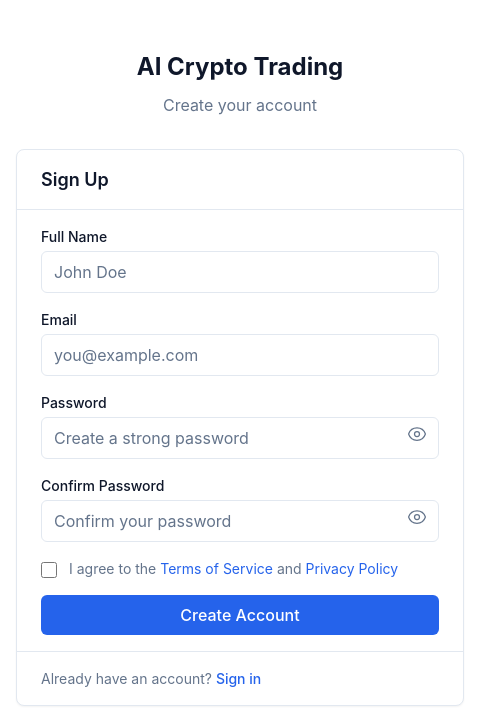
Test: Signup Page › Form Validation › should show error when terms are not accepted
Type "Test User" into the field labelled "Full Name" at coordinates (240, 272), box [41,250,439,292]
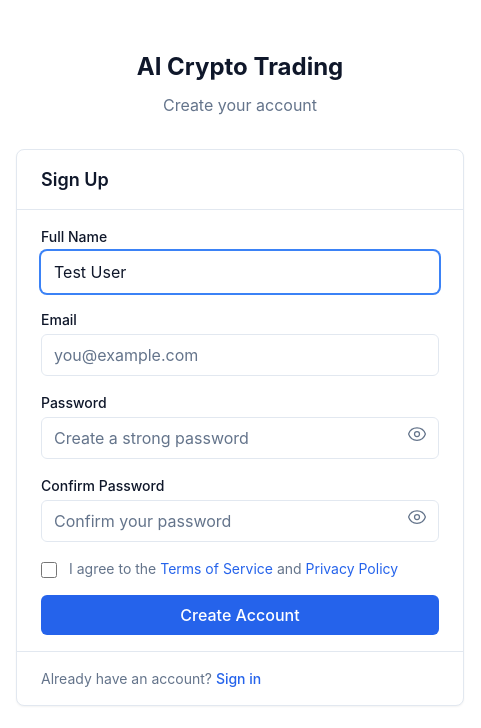
Type "test@example.com" into the field labelled "Email" at coordinates (240, 354), box [41,334,439,376]
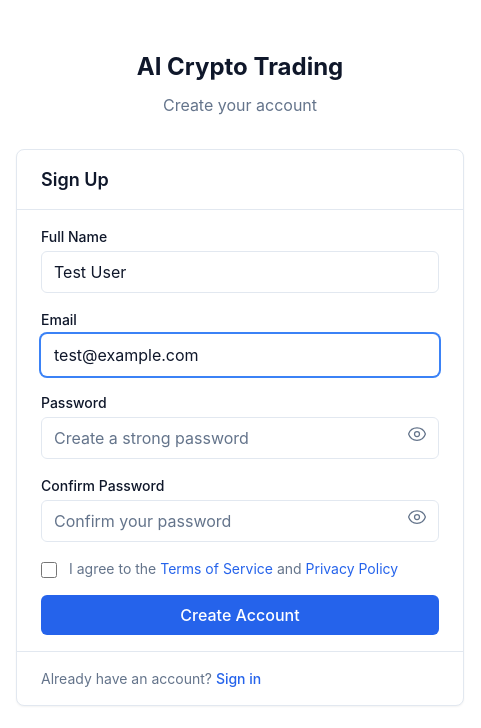
Type "StrongP@ss123!" into the password field labelled "Password" at coordinates (240, 438), box [41,416,439,458]
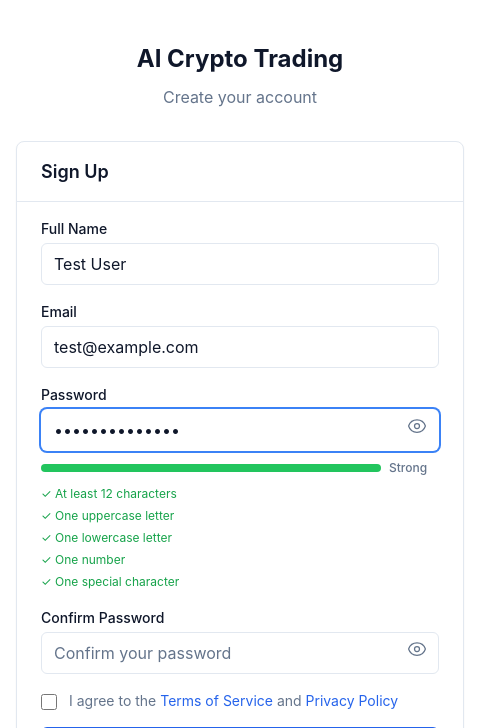
Type "StrongP@ss123!" into the password field with id "confirmPassword" at coordinates (240, 653), box [41,632,439,674]
(page scrolled)
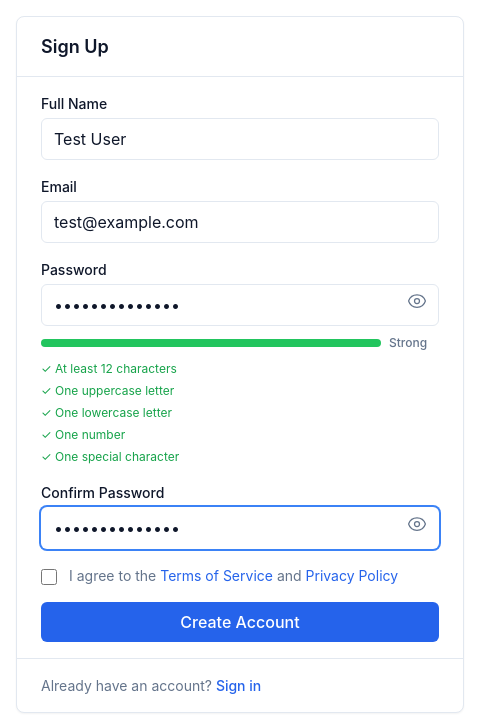
Click the button "Create Account" at coordinates (240, 622), box [41,602,439,642]
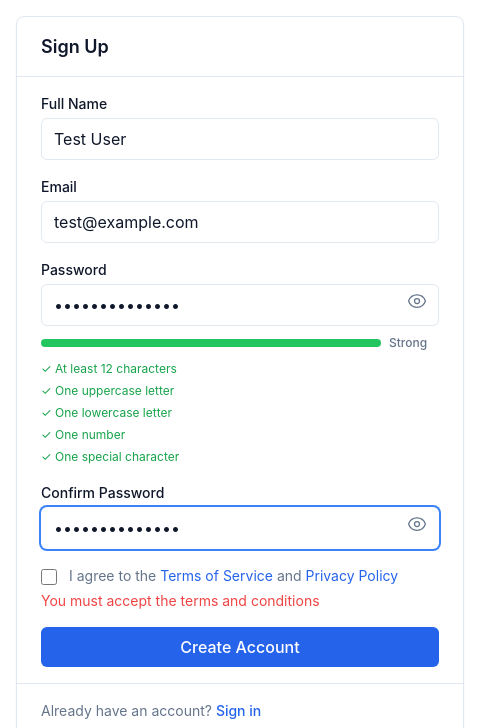
Expected: the text "You must accept the terms and conditions" is shown, [41,592,320,609]
